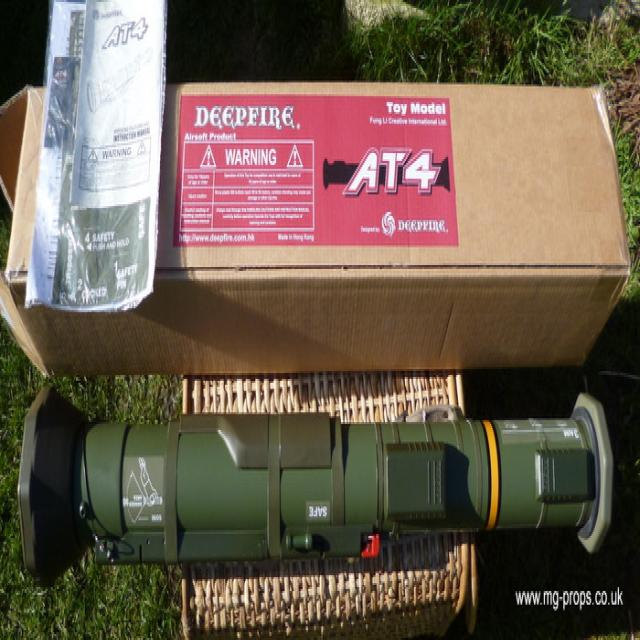bazooka: (9, 381, 629, 581)
